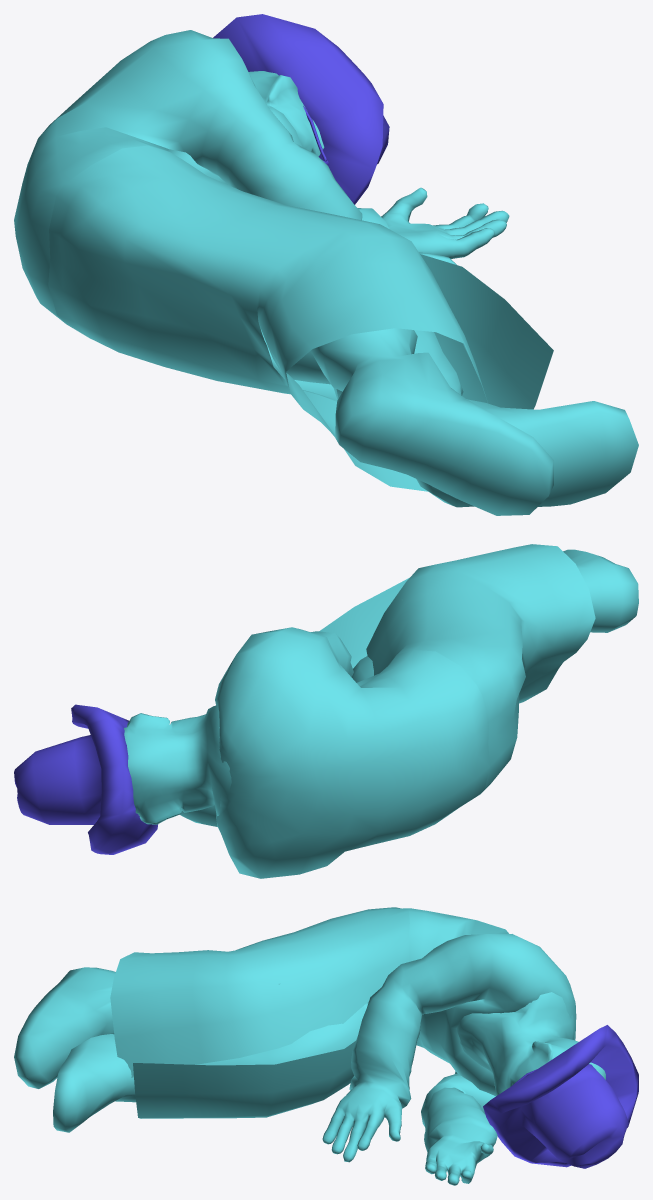
Rendered from Buddy_Ded.fbx.
The picture shows the model from 3 angles, top to bottom: view 1: azimuth 30°, elevation 25°; view 2: azimuth 150°, elevation 25°; view 3: azimuth 270°, elevation 25°; orthographic projection. The views are drawn at different scales.
Visible parts, largest first — view 1: Buddy; view 2: Buddy; view 3: Buddy.
Boxes of the visible parts, x1,y1,x2,y2 form: Buddy: (14, 14, 638, 515); Buddy: (14, 544, 638, 878); Buddy: (14, 907, 638, 1185).
Bounding box in the file's own units: 0.811 × 0.4523 × 1.31.
